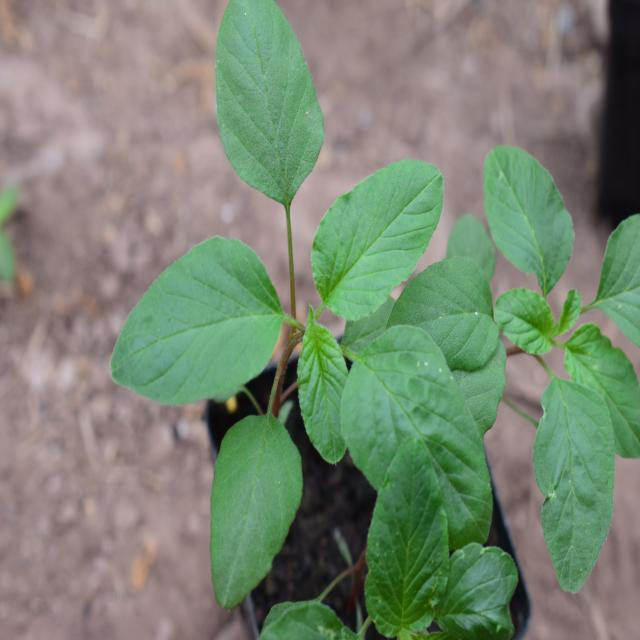pigweed: (123, 6, 494, 568)
